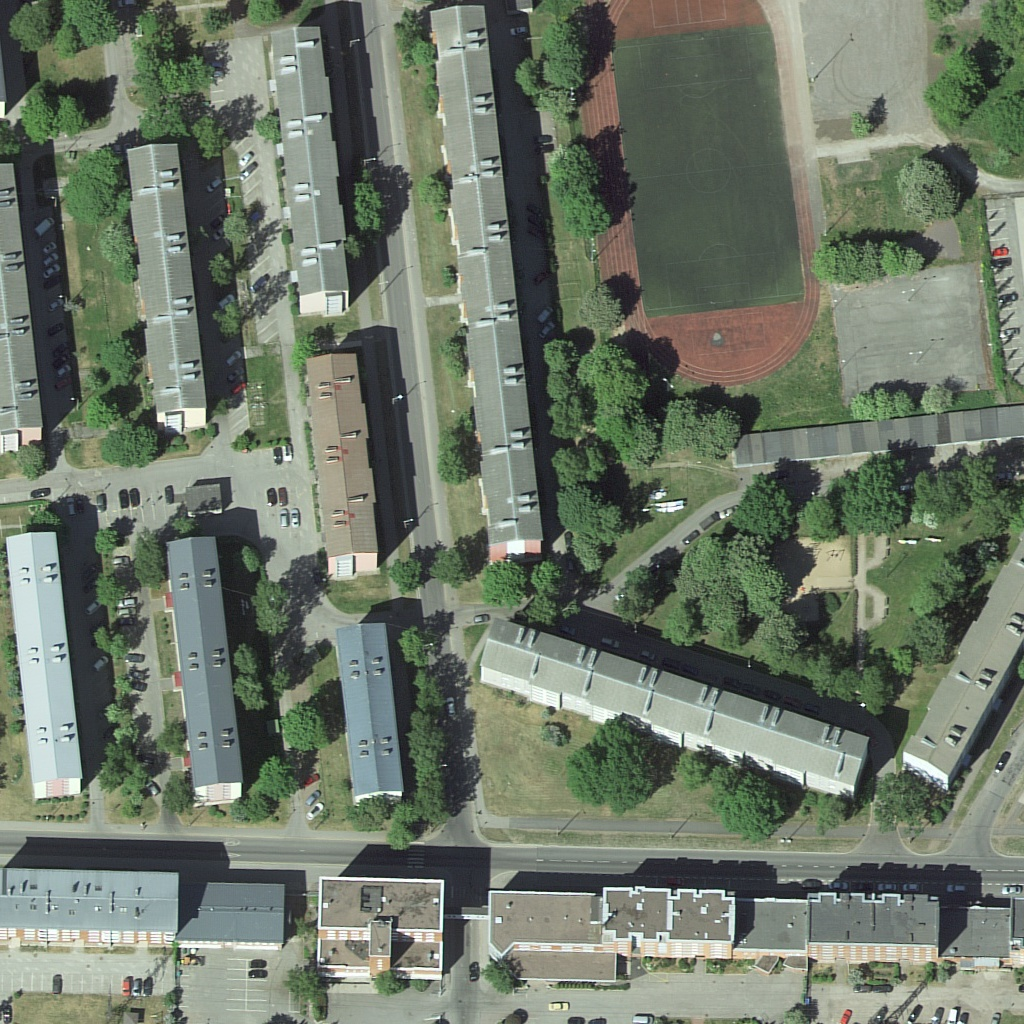building: (478, 618, 871, 796), (429, 2, 550, 558), (896, 541, 1021, 795), (264, 23, 354, 321), (124, 138, 214, 431), (3, 528, 85, 803), (167, 532, 247, 811), (302, 350, 384, 578), (2, 865, 180, 952), (316, 872, 447, 983), (337, 621, 409, 799), (805, 891, 945, 963), (603, 883, 736, 958), (181, 876, 287, 953), (488, 885, 603, 955)
